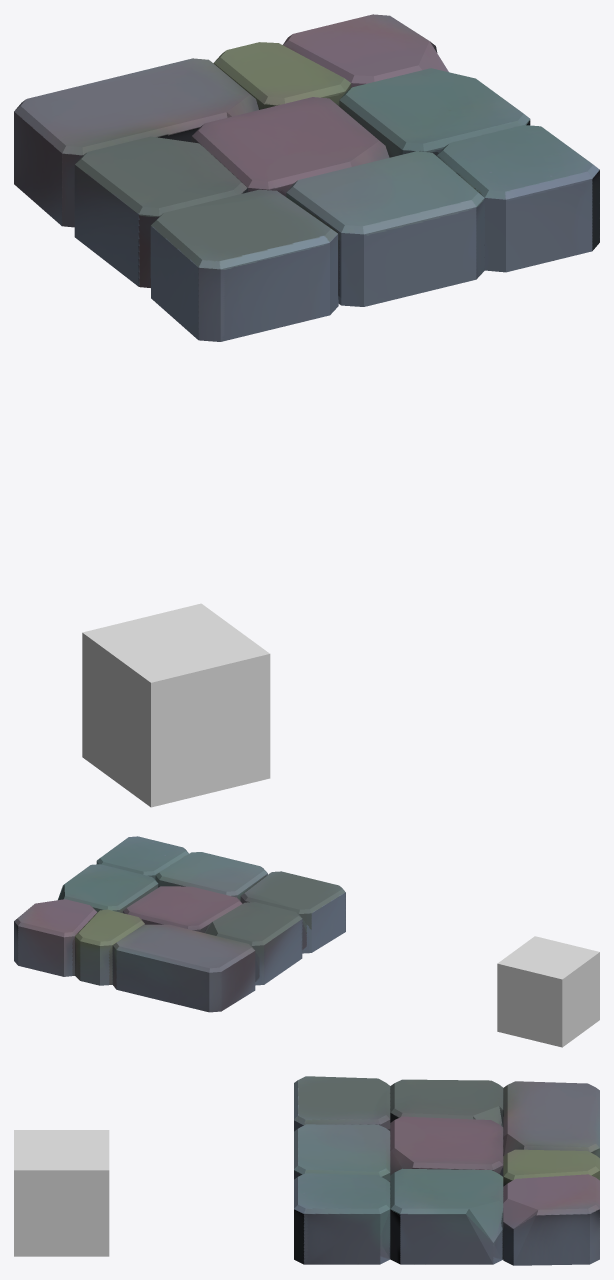
File: trade-floor010.fbx
The picture shows the model from 3 angles, top to bottom: view 1: azimuth 30°, elevation 25°; view 2: azimuth 150°, elevation 25°; view 3: azimuth 270°, elevation 25°; orthographic projection. The views are drawn at different scales.
Visible parts, largest first — view 1: Cube.034, trade-floor010; view 2: Cube.034, trade-floor010; view 3: Cube.034, trade-floor010.
Boxes of the visible parts, <box> form: Cube.034: <box>14,14,599,341</box>; trade-floor010: <box>82,603,270,807</box>; Cube.034: <box>14,836,345,1012</box>; trade-floor010: <box>497,936,599,1047</box>; Cube.034: <box>294,1076,599,1265</box>; trade-floor010: <box>14,1130,109,1256</box>.
Size of the model in its own units: 433 by 206 by 479.
